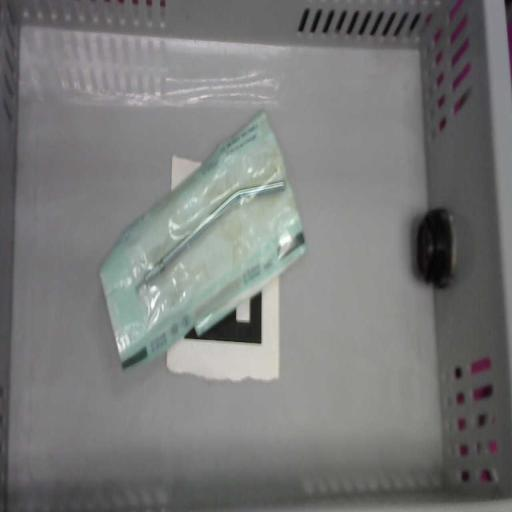triple_syringe: (98, 107, 308, 371)
